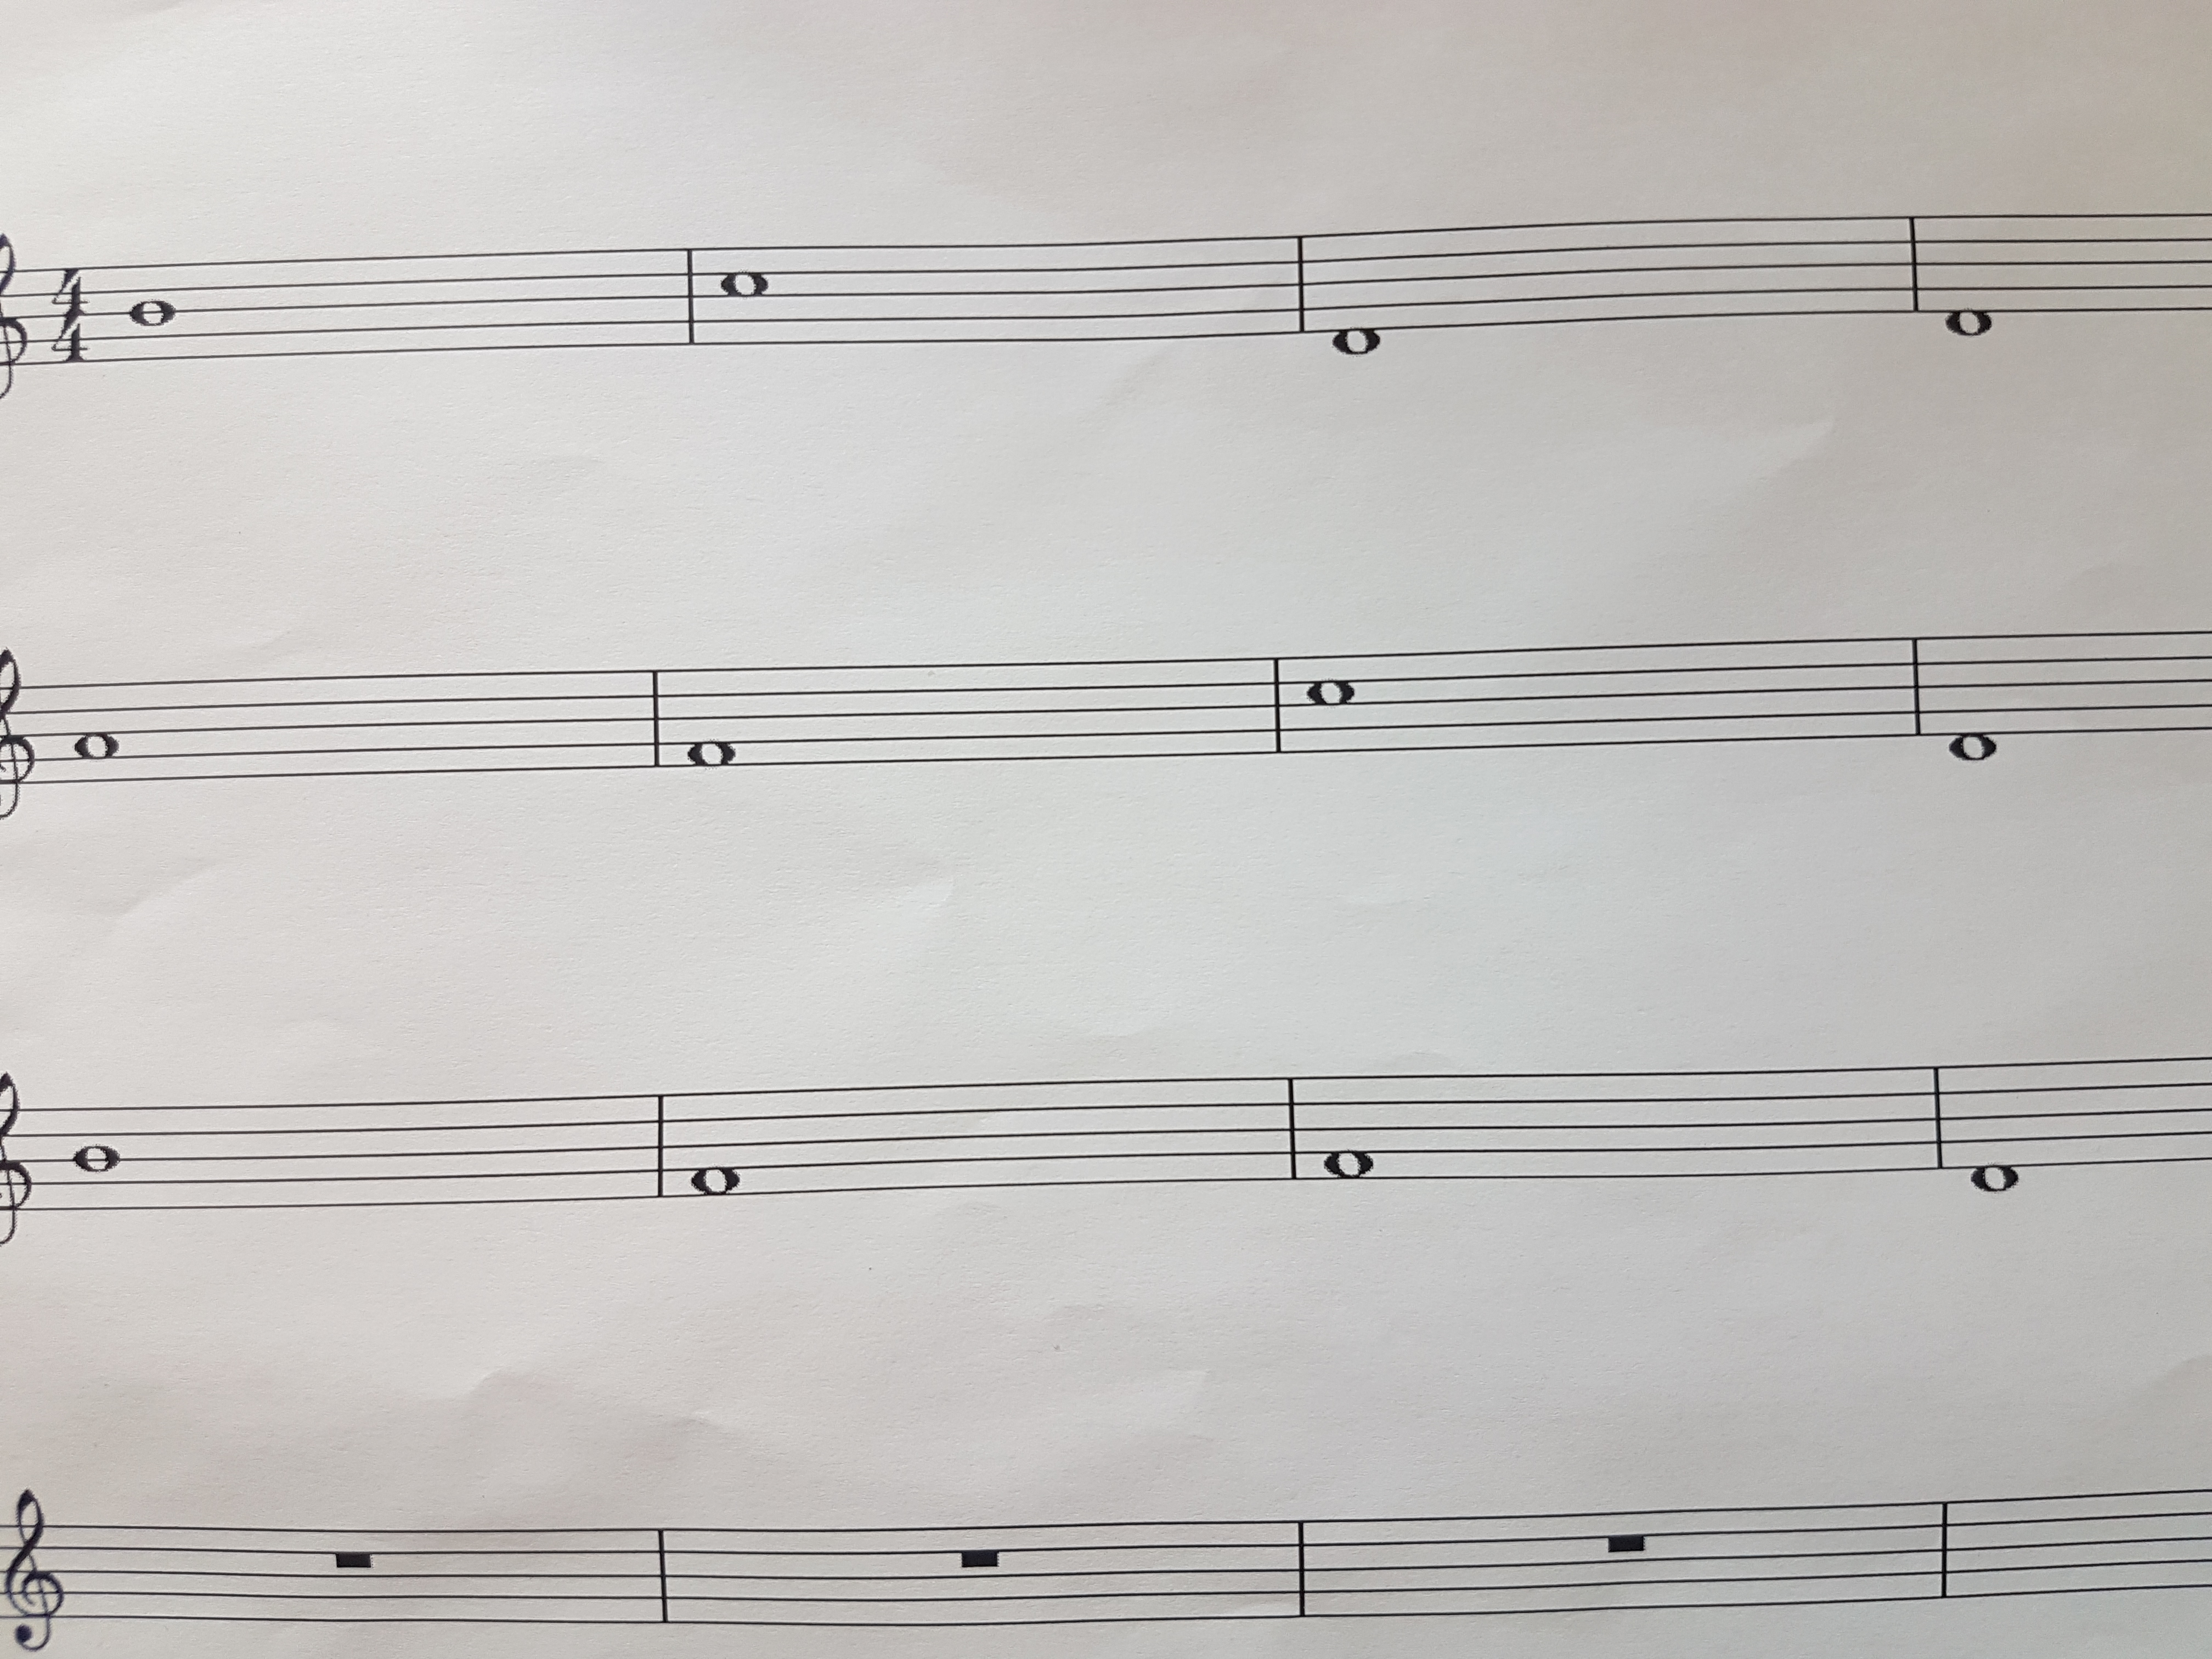key: (2, 1476, 66, 1659)
pipe: (646, 1511, 685, 1635), (646, 1079, 676, 1215), (644, 655, 672, 782), (1280, 1061, 1306, 1195), (1904, 622, 1930, 755), (1900, 206, 1930, 322), (1289, 1506, 1317, 1629), (1291, 225, 1317, 350), (1926, 1054, 1952, 1180), (1933, 1483, 1959, 1608), (1264, 643, 1291, 763), (678, 239, 704, 354)
semibreve_a: (68, 652, 129, 816)
semibreve_c: (712, 218, 773, 369), (1301, 624, 1362, 775)
semibreve_d: (1935, 188, 2001, 368), (1939, 605, 2005, 784), (1322, 199, 1390, 373), (1965, 1035, 2026, 1218)
semibreve_f: (1315, 1047, 1381, 1216), (685, 1061, 751, 1229), (683, 643, 742, 805)
semibreve_h: (64, 1084, 131, 1237), (122, 234, 183, 390)
